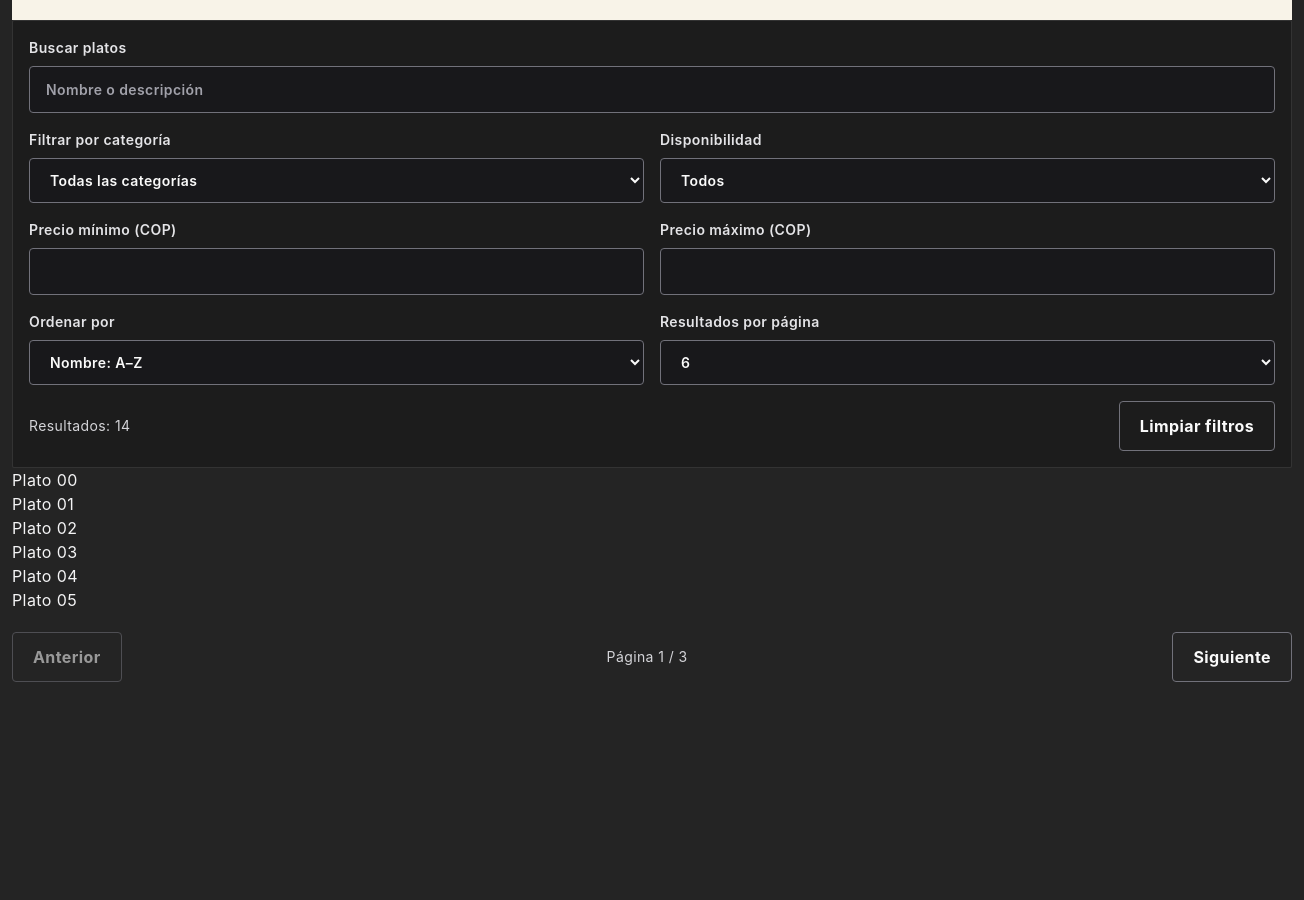
Test: switches all search labels immediately while retaining entered text
The width and height of the screenshot is (1304, 900).
Type "limon" into the search field labelled "Buscar platos". click: (652, 90)
box: [29,66,1275,113]
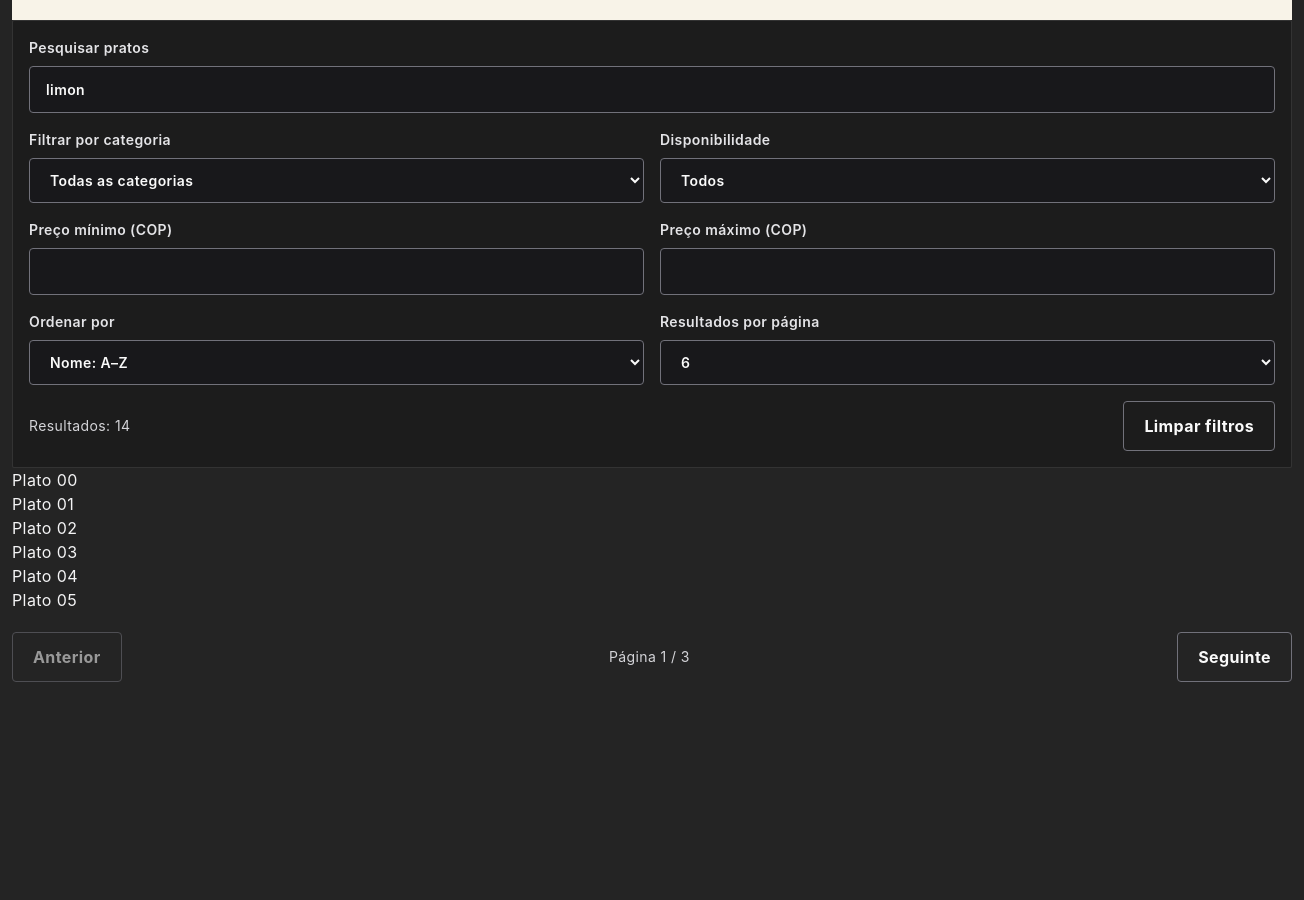
Expected: the button "Limpar filtros" is shown, [1123,401,1275,451]
